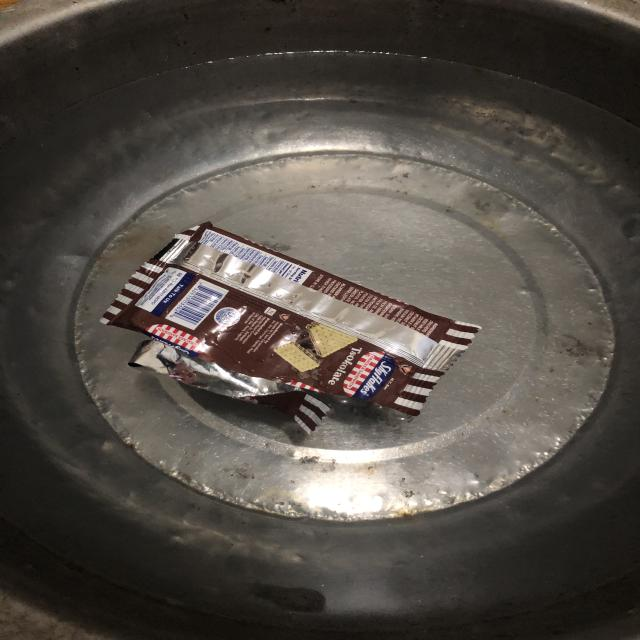Plastic Wrapper: (94, 208, 488, 442)
